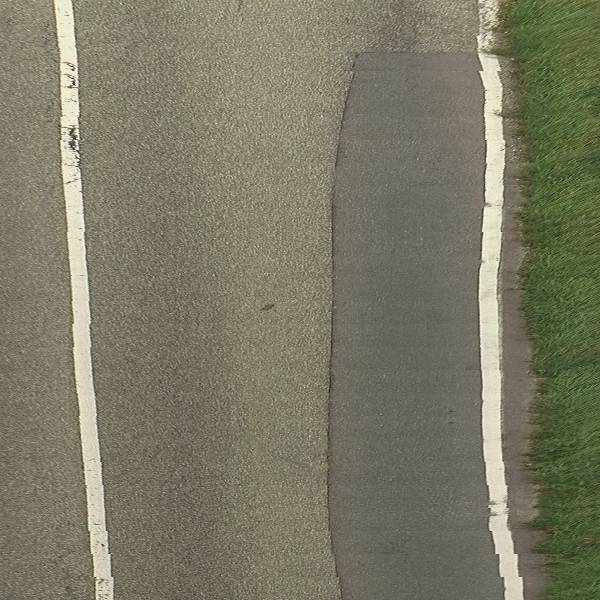road_damage: (305, 34, 494, 600)
